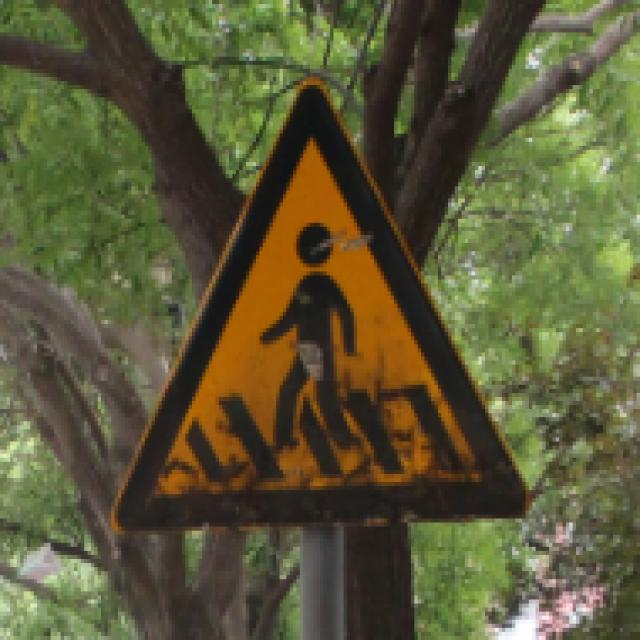Crossing: (106, 73, 542, 537)
